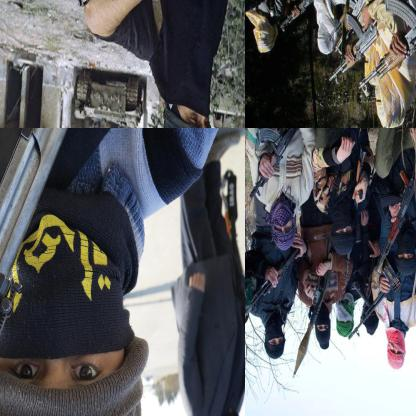rifle: (0, 128, 72, 415), (348, 0, 415, 100), (287, 253, 332, 380), (372, 155, 415, 280), (245, 241, 302, 320), (323, 13, 379, 87), (245, 128, 302, 200), (347, 278, 398, 344), (274, 0, 319, 36)
